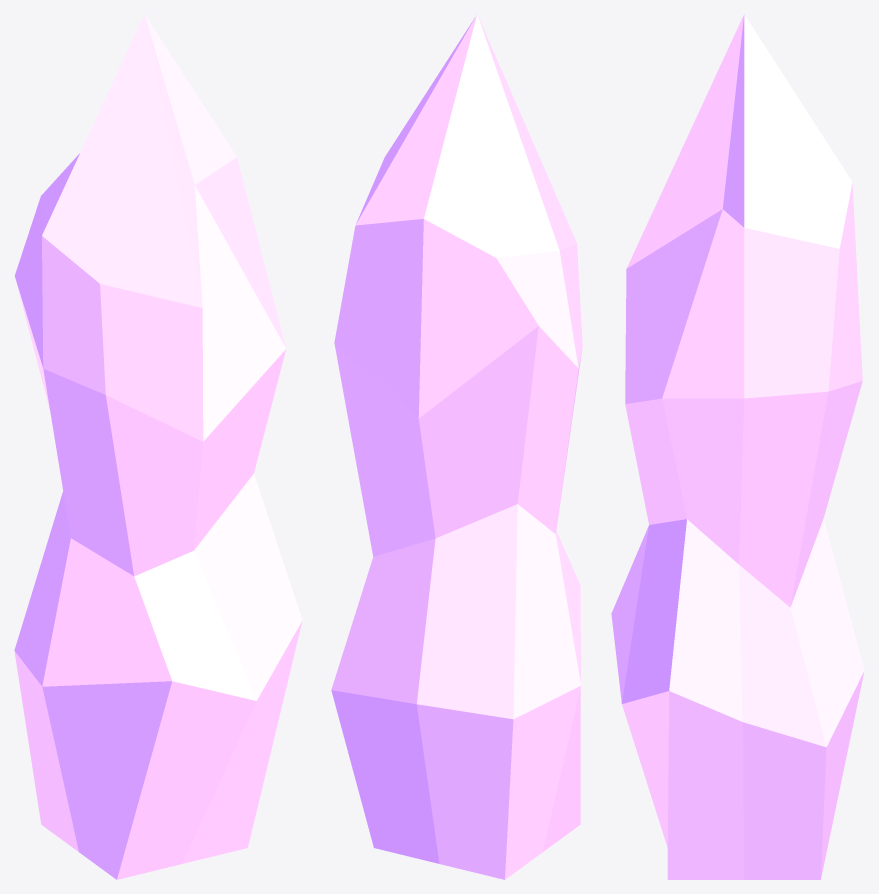
File: CRISTAL4.fbx
3 views of the same model, side by side, from view 1: azimuth 30°, elevation 25°; view 2: azimuth 150°, elevation 25°; view 3: azimuth 270°, elevation 25° (orthographic).
Visible parts, largest first — view 1: 4; view 2: 4; view 3: 4.
Boxes of the visible parts, x1,y1,x2,y2 form: 4: (14, 14, 302, 879); 4: (331, 14, 582, 879); 4: (611, 14, 864, 879).
Bounding box in the file's own units: 36.37 × 128 × 35.1.
